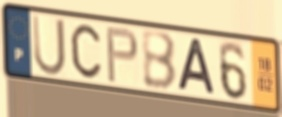6: (217, 40, 249, 103)
A: (176, 36, 217, 98)
B: (139, 30, 178, 94)
C: (69, 22, 103, 80)
P: (105, 25, 140, 85)
U: (31, 13, 68, 78)
